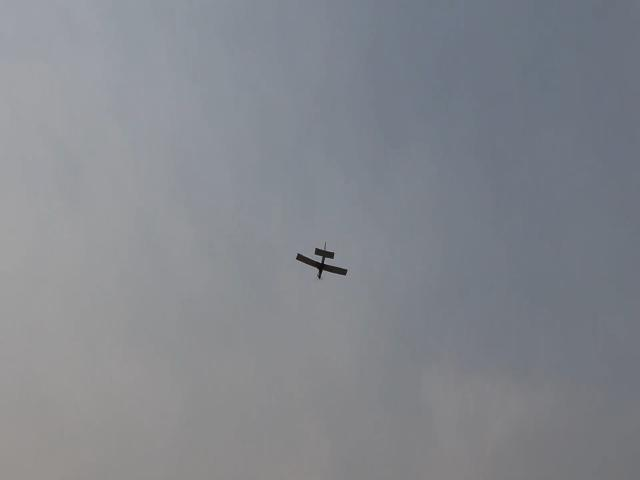plane: (296, 250, 347, 281)
